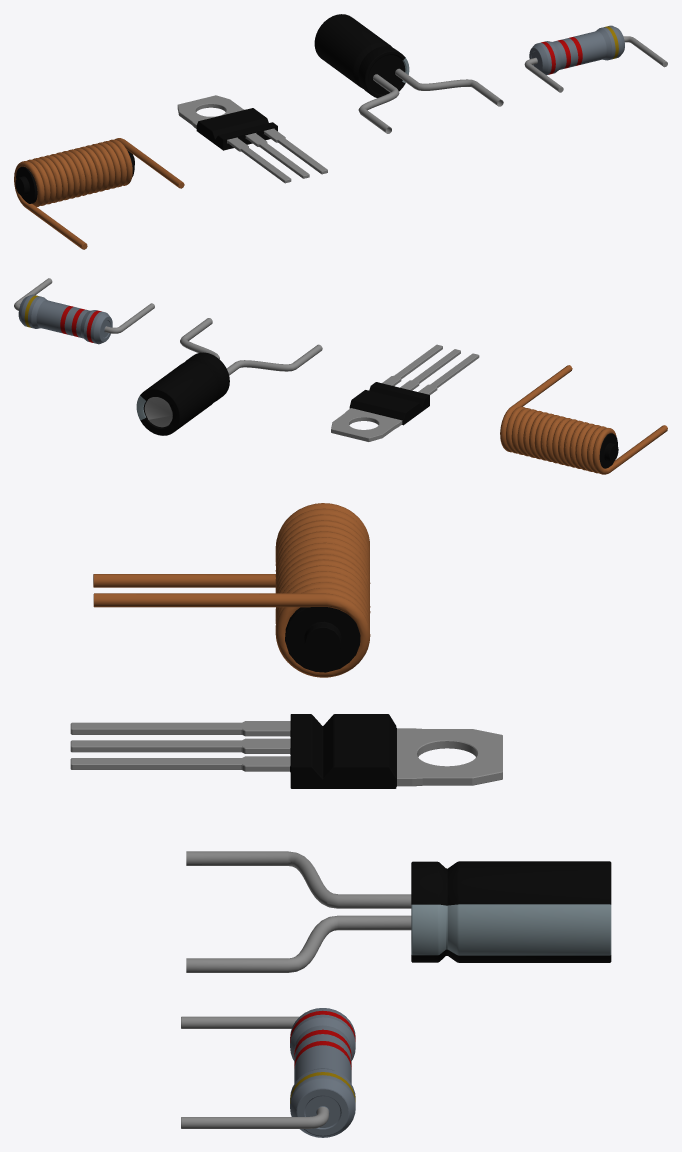
The model's file is Parts.fbx.
The picture shows the model from 3 angles, top to bottom: view 1: azimuth 30°, elevation 25°; view 2: azimuth 150°, elevation 25°; view 3: azimuth 270°, elevation 25°; orthographic projection. The views are drawn at different scales.
Visible parts, largest first — view 1: Cievka Blown, Kondenzator Blown, Rezistor Blown, Tranzistor, Tranzistor Leg 2, Tranzistor Leg 1, Tranzistor Leg 3; view 2: Cievka Blown, Kondenzator Blown, Tranzistor, Rezistor Blown, Tranzistor Leg 1, Tranzistor Leg 3, Tranzistor Leg 2; view 3: Kondenzator Blown, Cievka Blown, Tranzistor, Rezistor Blown, Tranzistor Leg 2, Tranzistor Leg 1, Tranzistor Leg 3.
Part boxes in pixels (left/top/right/bottom): Cievka Blown: left=14, top=138, right=184, bottom=249; Kondenzator Blown: left=314, top=14, right=503, bottom=133; Rezistor Blown: left=524, top=25, right=667, bottom=92; Tranzistor: left=177, top=95, right=277, bottom=150; Tranzistor Leg 2: left=245, top=133, right=309, bottom=178; Tranzistor Leg 1: left=227, top=137, right=291, bottom=183; Tranzistor Leg 3: left=264, top=129, right=327, bottom=174; Cievka Blown: left=500, top=365, right=667, bottom=474; Kondenzator Blown: left=136, top=318, right=322, bottom=435; Tranzistor: left=331, top=382, right=429, bottom=441; Rezistor Blown: left=14, top=278, right=154, bottom=344; Tranzistor Leg 1: left=418, top=353, right=479, bottom=394; Tranzistor Leg 3: left=382, top=344, right=442, bottom=386; Tranzistor Leg 2: left=400, top=349, right=460, bottom=390; Kondenzator Blown: left=186, top=851, right=611, bottom=972; Cievka Blown: left=93, top=503, right=370, bottom=677; Tranzistor: left=290, top=714, right=502, bottom=788; Rezistor Blown: left=181, top=1008, right=355, bottom=1137; Tranzistor Leg 2: left=70, top=738, right=289, bottom=753; Tranzistor Leg 1: left=70, top=721, right=289, bottom=736; Tranzistor Leg 3: left=70, top=756, right=289, bottom=771.
Bounding box in the file's own units: 5488 × 401 × 2133.
